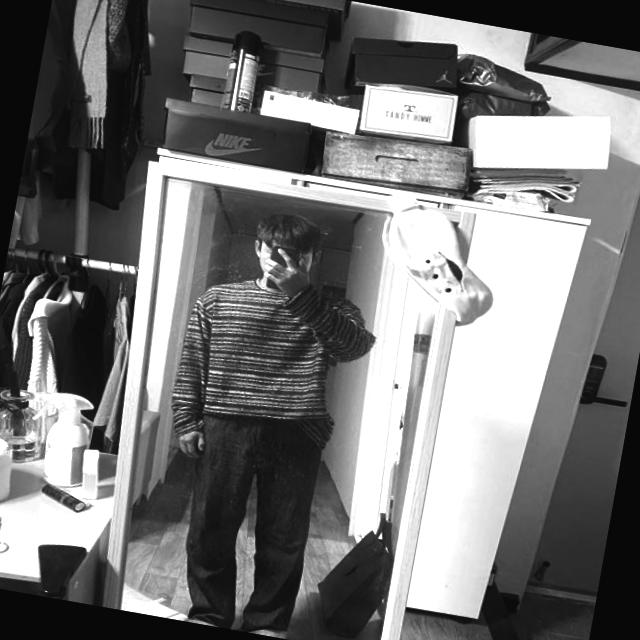denimpants: (167, 404, 327, 640)
longsleeve: (168, 264, 382, 466)
